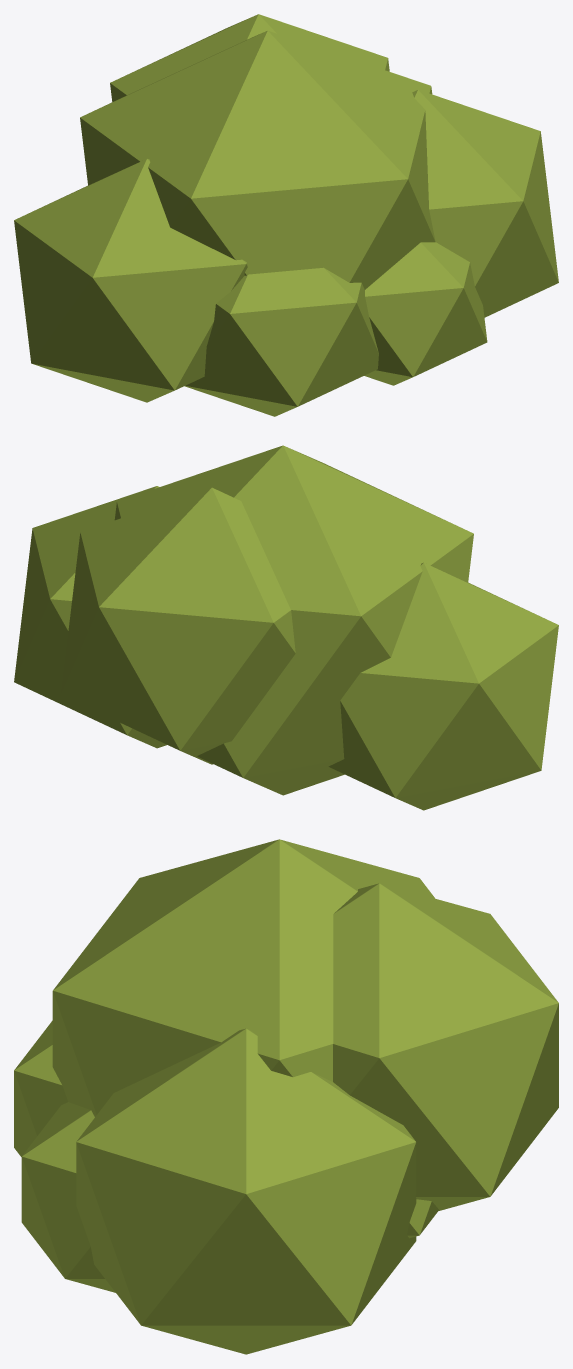
The model's file is bush_green.glb.
The picture shows the model from 3 angles, top to bottom: view 1: azimuth 30°, elevation 25°; view 2: azimuth 150°, elevation 25°; view 3: azimuth 270°, elevation 25°; orthographic projection. The views are drawn at different scales.
Parts seen in each view (by area): view 1: bush_green; view 2: bush_green; view 3: bush_green.
Part boxes in pixels (box(x1,y1,x2,y2)): bush_green: box(14, 14, 558, 416); bush_green: box(14, 445, 558, 810); bush_green: box(14, 839, 558, 1354).
Bounding box in the file's own units: 3.32 × 2.16 × 2.45.
